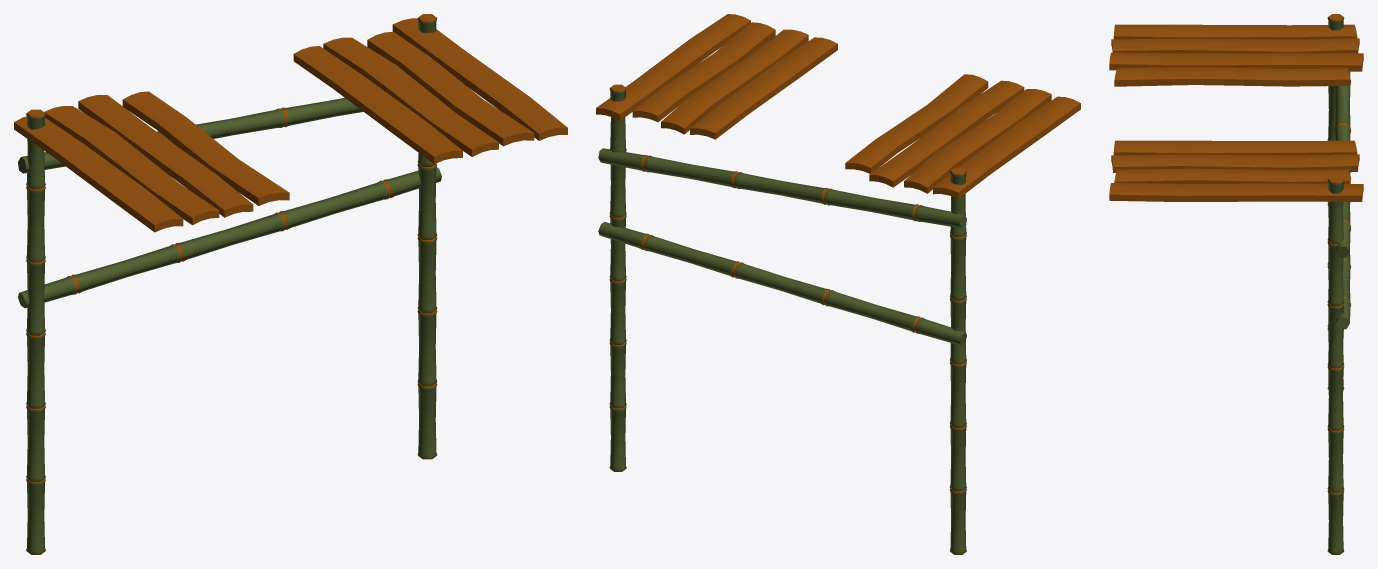
The model's file is Jungle_Platform_03.fbx.
The picture shows the model from 3 angles, left to right: view 1: azimuth 30°, elevation 25°; view 2: azimuth 150°, elevation 25°; view 3: azimuth 270°, elevation 25°; orthographic projection. The views are drawn at different scales.
Parts seen in each view (by area): view 1: Jungle_Platform_03; view 2: Jungle_Platform_03; view 3: Jungle_Platform_03.
Boxes of the visible parts, x1=… form: Jungle_Platform_03: x1=14, y1=14, x2=567, y2=554; Jungle_Platform_03: x1=596, y1=14, x2=1080, y2=554; Jungle_Platform_03: x1=1109, y1=14, x2=1363, y2=554.
Size of the model in its own units: 5.98 by 6 by 3.71.
